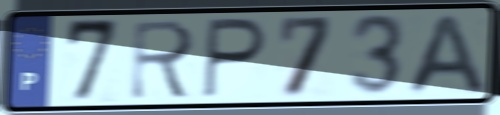3: (347, 11, 408, 100)
7: (276, 14, 338, 101), (63, 17, 122, 107)
A: (401, 11, 490, 98)
P: (199, 15, 270, 102)
R: (126, 17, 198, 102)
